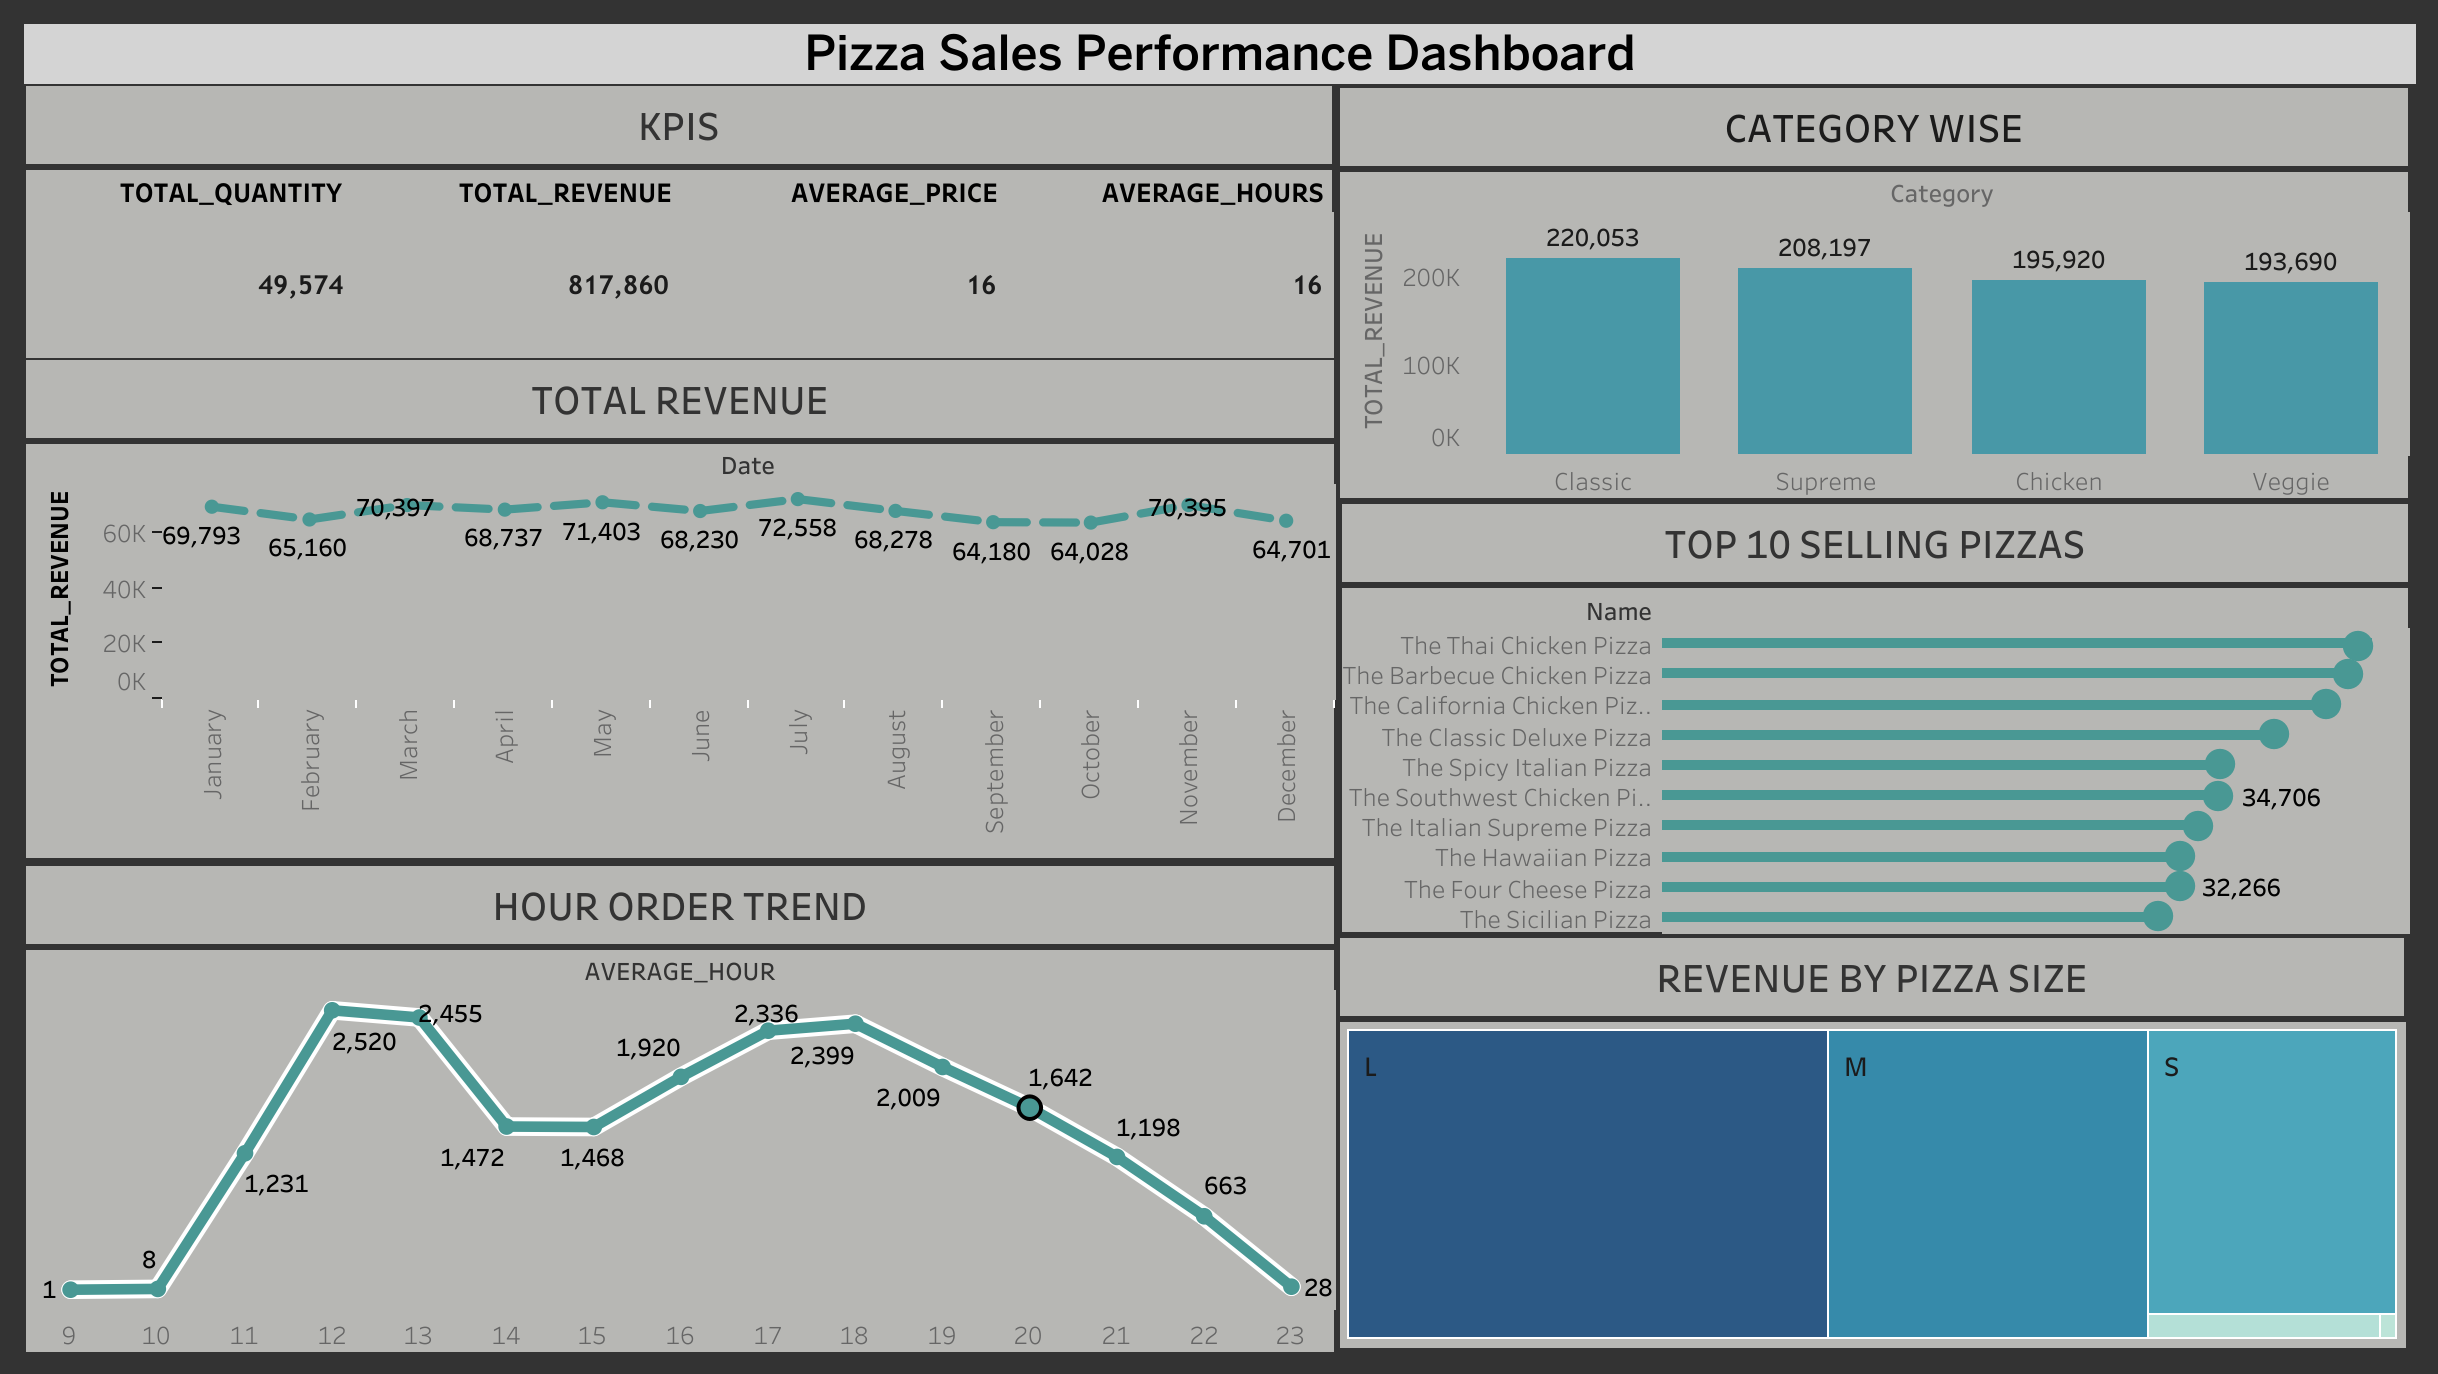

This screenshot's page, from the dashboard's own definition file:
{"tool":"tableau","page":{"name":"FINAL_DASHBOARD","canvas":[1000,1000],"units":"permille","ordinal":2},"visuals":[{"type":"title","box":[6.6,10.1,986.9,46.7]},{"type":"image","box":[6.6,56.8,986.9,933.2]},{"type":"worksheet","title":"KPI (2)","mark":"Automatic","box":[10.7,63.1,535.2,195.5]},{"type":"worksheet","title":"CHART_2","mark":"Bar","rows":["Calculation_0235865146445824"],"cols":["category"],"box":[549.2,64.3,437.7,297.6]},{"type":"worksheet","title":"CHARTS_1","mark":"Automatic","rows":["Calculation_0235865146445824"],"cols":["date"],"box":[10.7,262.3,536.1,361.9]},{"type":"worksheet","title":"CHART_3","mark":"Automatic","rows":["name"],"cols":["Calculation_0235865146445824","Calculation_0235865146445824"],"box":[550,365.7,436.9,311.5]},{"type":"worksheet","title":"CHART_4","mark":"Line","rows":["order_id"],"cols":["Calculation_0235865153757188"],"box":[10.7,629.3,536.1,353.1]},{"type":"worksheet","title":"CHART_5","mark":"Automatic","box":[549.2,681,436.1,298.9]}]}

Visuals, with their boxes on the dashboard's canvas, which has no fixed pixel size, in thousandths of its width and height (x1, y1, x2, y2). These are canvas units, not pixel positions in the 2438x1374 screenshot, which may show the page scaled, cropped or inside an application window:
title: bbox=(7, 10, 994, 57)
image: bbox=(7, 57, 994, 990)
"KPI (2)" worksheet: bbox=(11, 63, 546, 259)
"CHART_2" worksheet (Bar marks): bbox=(549, 64, 987, 362)
"CHARTS_1" worksheet: bbox=(11, 262, 547, 624)
"CHART_3" worksheet: bbox=(550, 366, 987, 677)
"CHART_4" worksheet (Line marks): bbox=(11, 629, 547, 982)
"CHART_5" worksheet: bbox=(549, 681, 985, 980)
